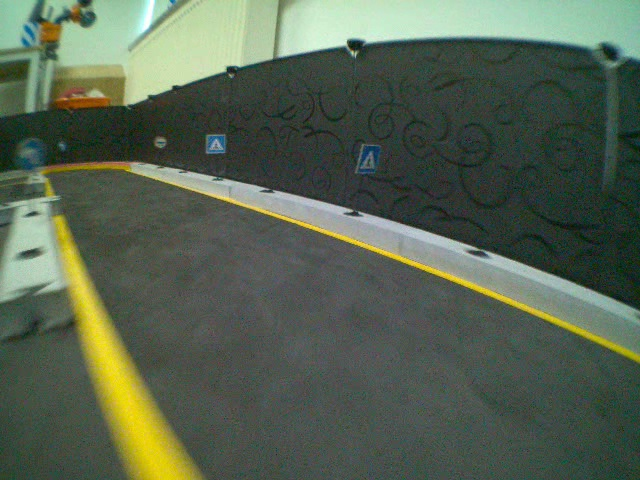Check: (154, 135, 167, 149)
crossing: (353, 142, 383, 175), (205, 133, 225, 154)
